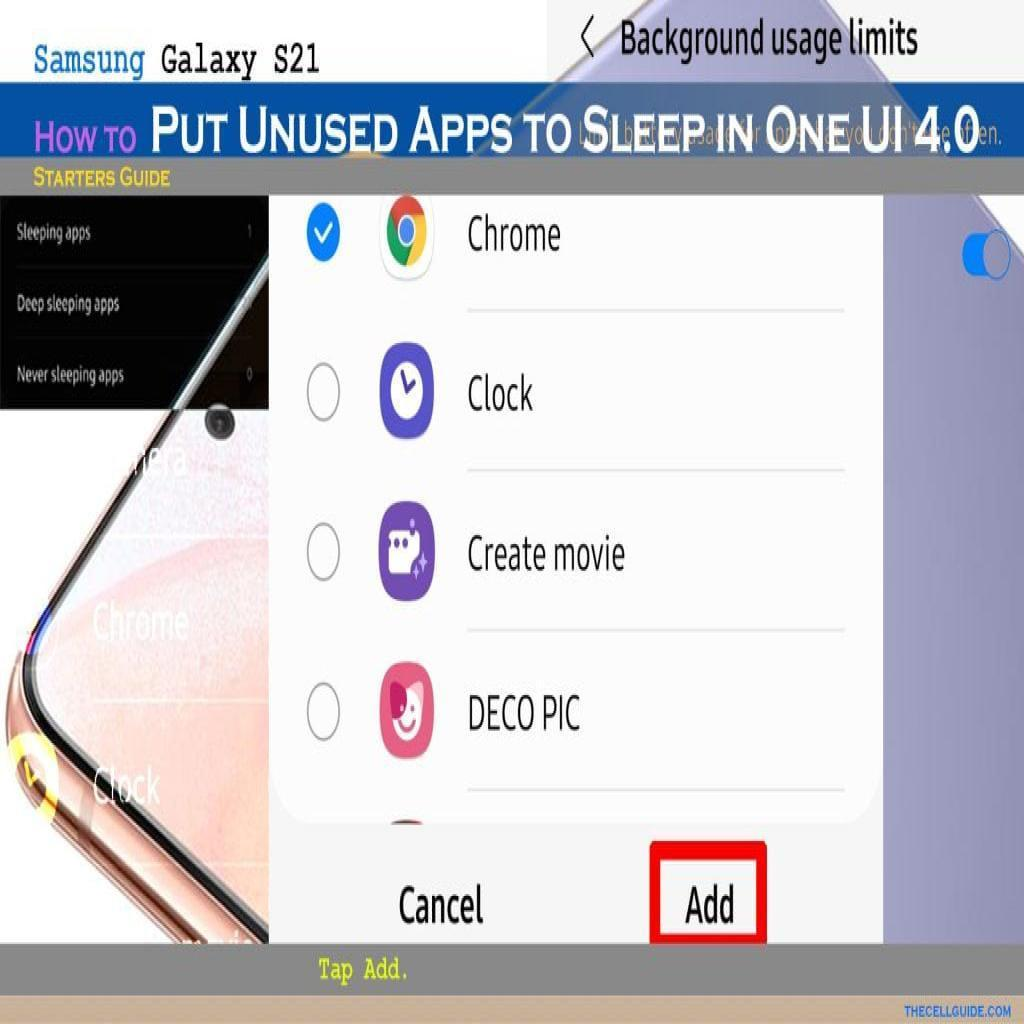button: (663, 861, 756, 935)
label: (399, 879, 494, 930)
radio: (303, 199, 350, 271), (304, 519, 347, 589), (306, 357, 345, 426), (307, 682, 345, 749)
